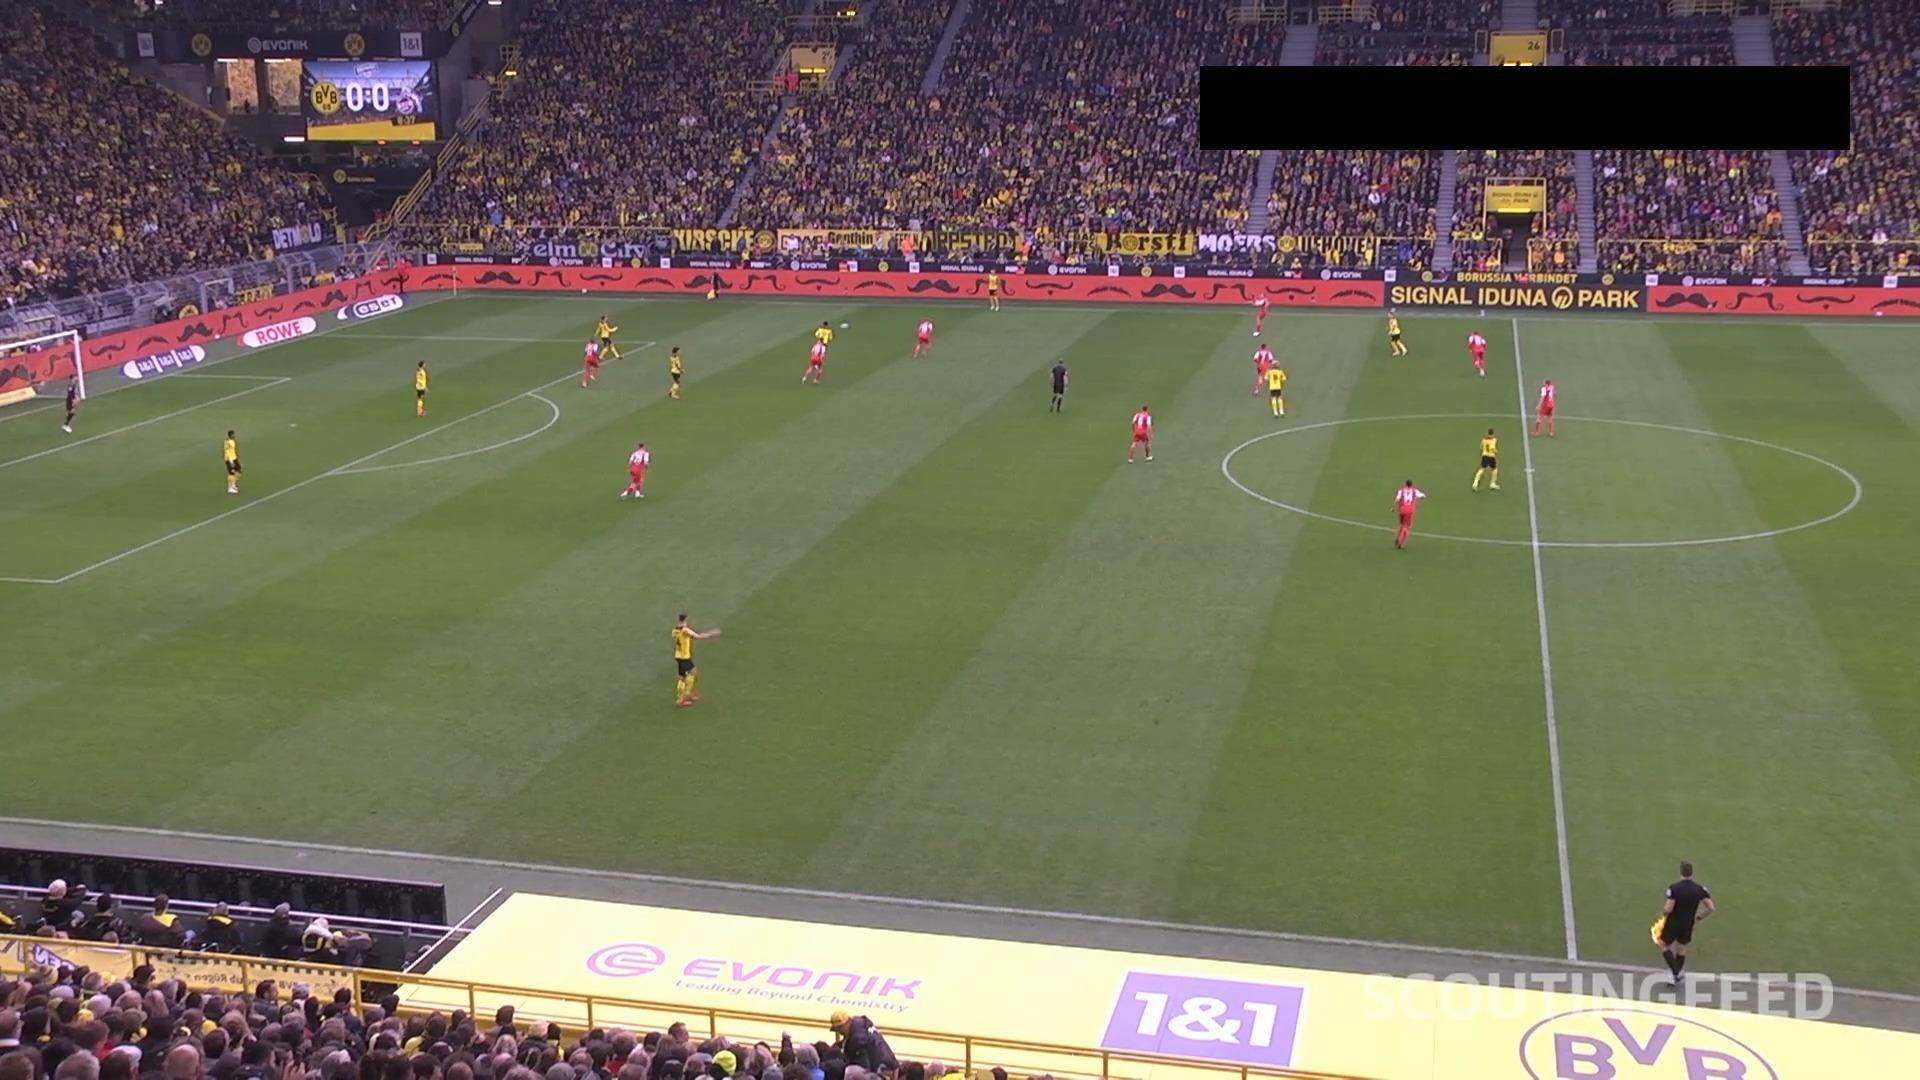ball: (840, 322, 848, 329)
player: (670, 611, 720, 706), (1390, 478, 1425, 549), (1470, 426, 1499, 491), (619, 441, 650, 498), (1126, 404, 1154, 462), (800, 331, 829, 384), (1531, 377, 1556, 436), (222, 428, 242, 494), (1264, 358, 1286, 417), (60, 374, 81, 432), (812, 321, 832, 380), (594, 313, 619, 360), (1252, 341, 1273, 395), (580, 337, 600, 387), (1385, 309, 1406, 356), (1466, 329, 1487, 376), (666, 345, 683, 398), (1250, 290, 1269, 335), (413, 359, 428, 416), (913, 316, 933, 358), (986, 269, 1001, 311)
referee: (1649, 858, 1714, 988), (1048, 358, 1068, 412), (705, 270, 721, 301)
